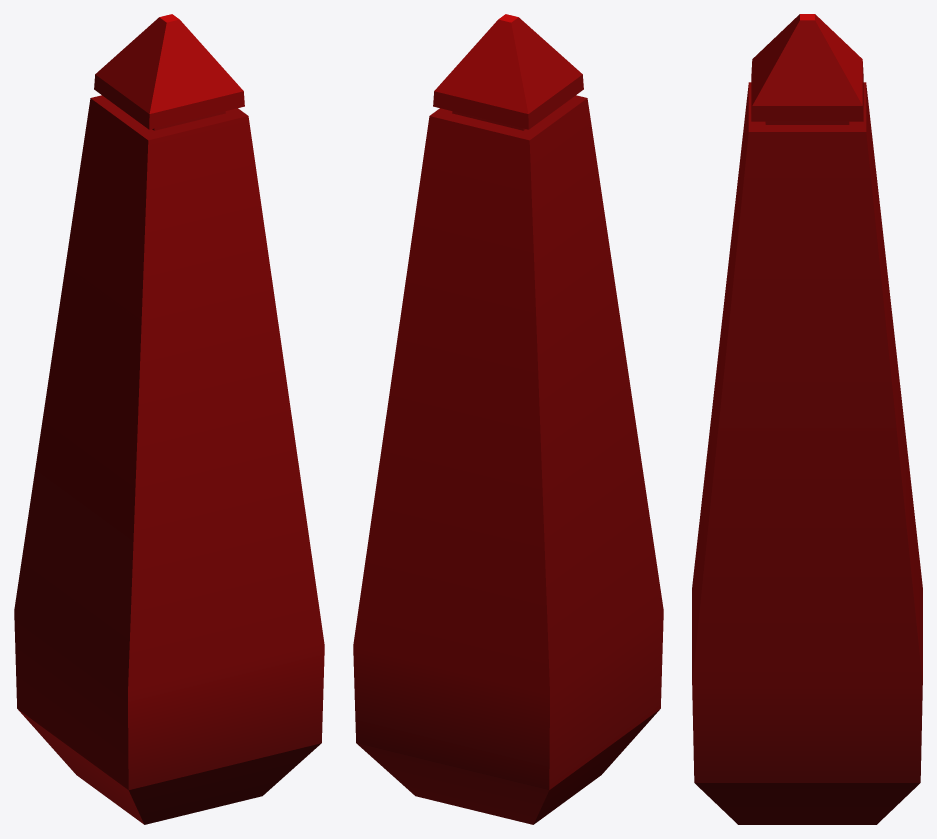
Rendered from geology-carvedstone-obelisk_v2.fbx.
3 views of the same model, side by side, from view 1: azimuth 30°, elevation 25°; view 2: azimuth 150°, elevation 25°; view 3: azimuth 270°, elevation 25° (orthographic).
Visible parts, largest first — view 1: Obelisk_v2; view 2: Obelisk_v2; view 3: Obelisk_v2.
Boxes of the visible parts, x1=… form: Obelisk_v2: x1=14, y1=14, x2=324, y2=824; Obelisk_v2: x1=353, y1=14, x2=663, y2=824; Obelisk_v2: x1=692, y1=14, x2=922, y2=824.
Size of the model in its own units: 1.77 by 6.58 by 1.77.
